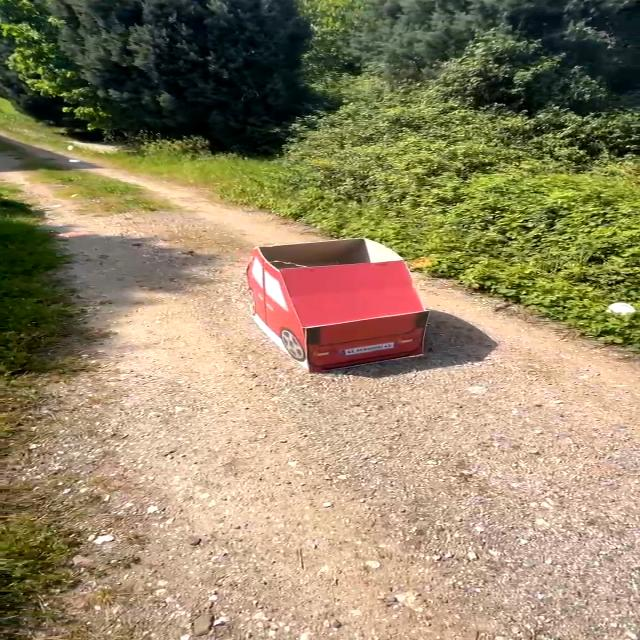red_car: (190, 238, 520, 403)
